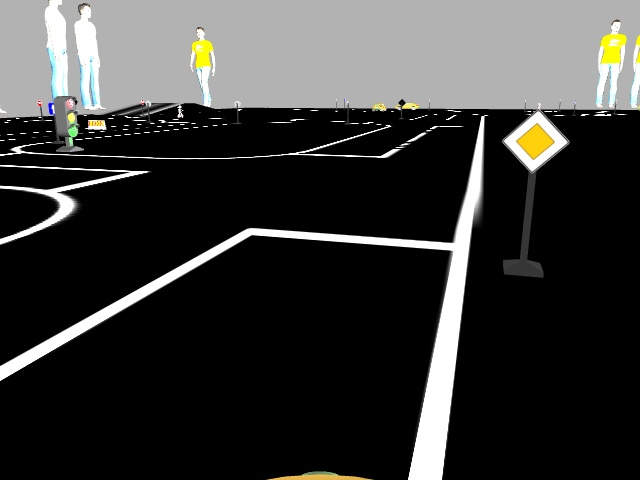ClosedRoadStand: (87, 120, 103, 128)
Priority: (505, 111, 567, 170)
TrafficLight: (54, 97, 76, 138)
